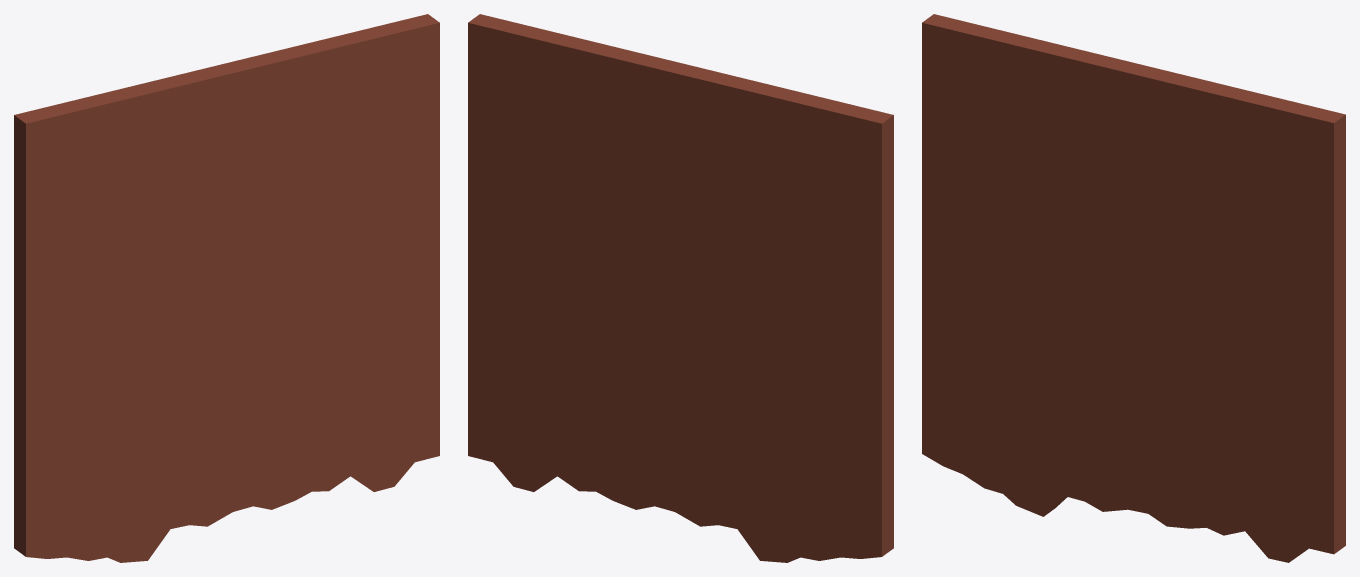
Rendered from tile04.001.glb.
3 renders of one model, left to right at view 1: azimuth 30°, elevation 25°; view 2: azimuth 150°, elevation 25°; view 3: azimuth 330°, elevation 25°, orthographic.
Parts seen in each view (by area): view 1: 04.001; view 2: 04.001; view 3: 04.001.
Boxes of the visible parts, x1,y1,x2,y2 form: 04.001: [14, 14, 439, 562]; 04.001: [468, 14, 893, 562]; 04.001: [922, 14, 1345, 562].
Bounding box in the file's own units: 2 × 2.16 × 0.1.
Materials: 1 (1 with a texture image).
